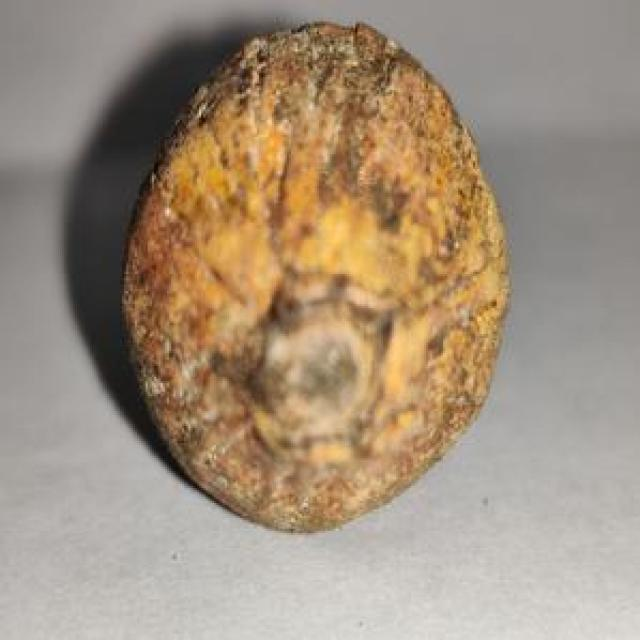good: (122, 24, 507, 529)
